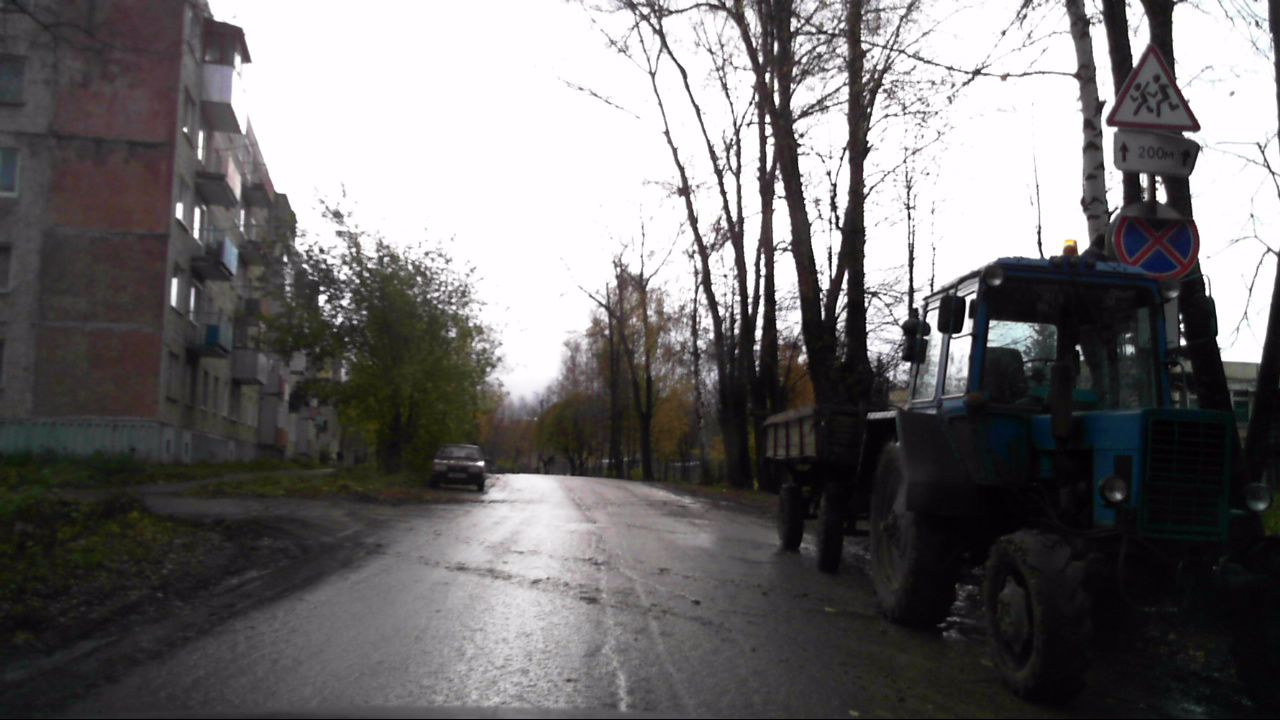No Parking: (1112, 212, 1201, 281)
